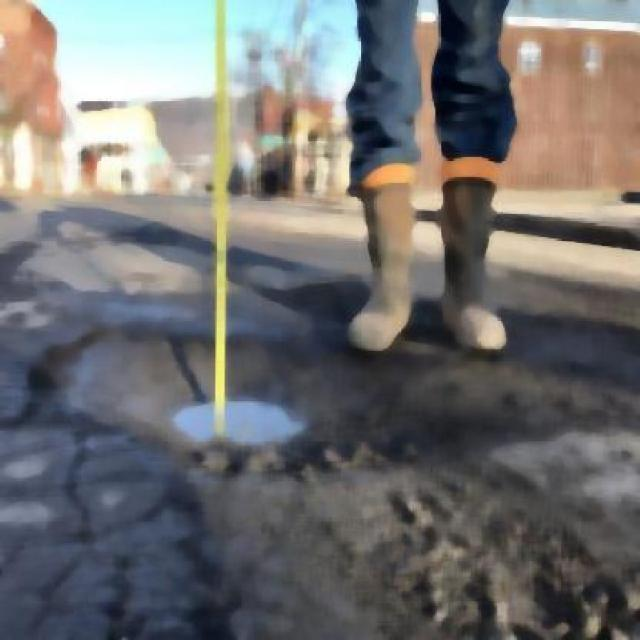pothole: (171, 354, 275, 456)
